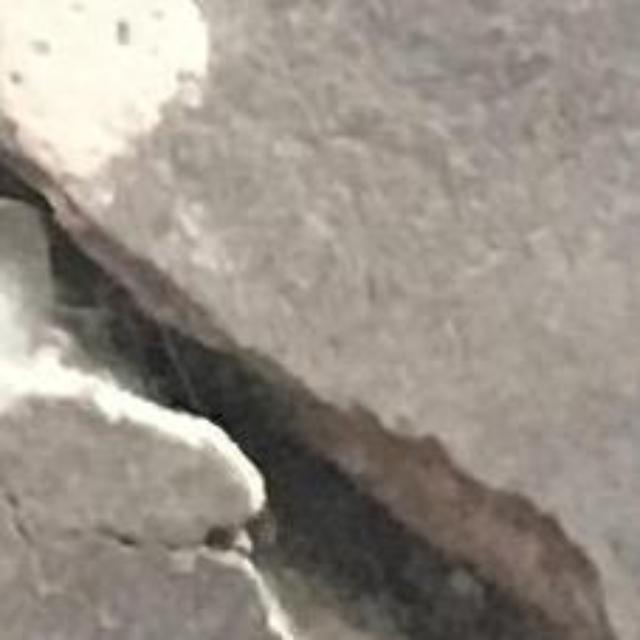crack: (0, 122, 614, 639)
